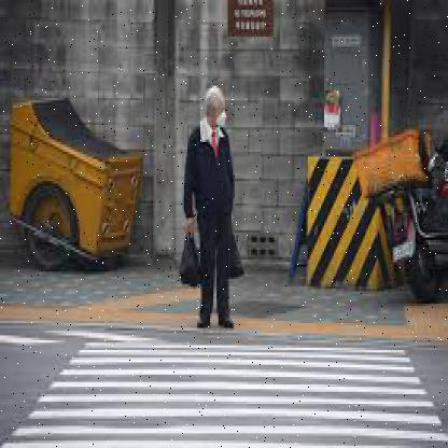silver: (186, 85, 236, 333)
